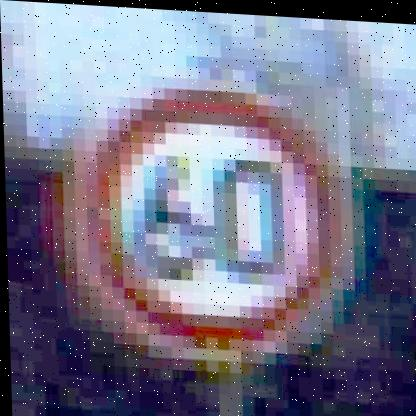Speed Limit -60-: (53, 70, 360, 370)
